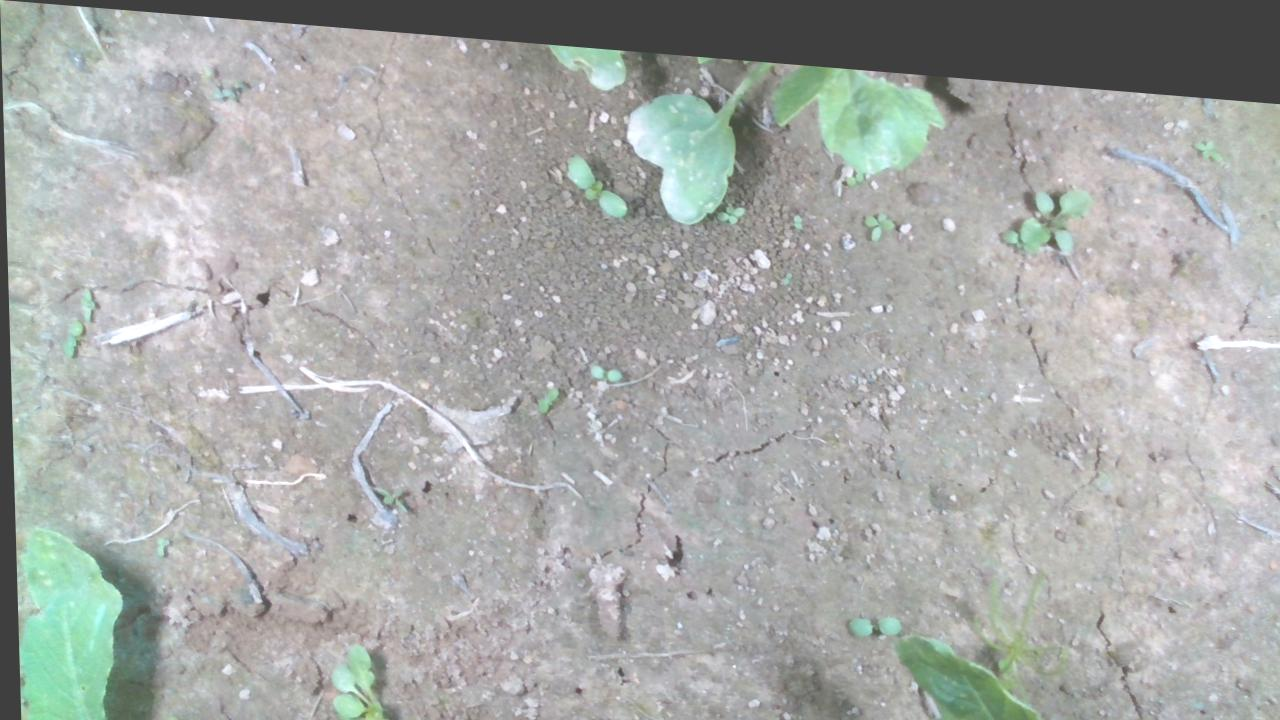weed: (564, 144, 627, 208), (843, 598, 898, 625), (860, 192, 894, 228), (368, 477, 404, 506), (533, 374, 558, 406), (713, 188, 744, 213), (1189, 115, 1220, 140), (76, 280, 95, 320), (586, 353, 621, 371), (789, 198, 802, 215)
